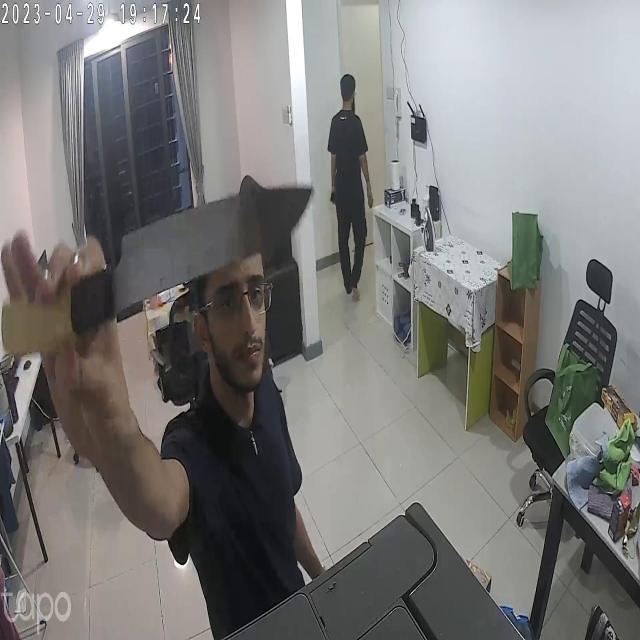Knife: (12, 184, 318, 348)
